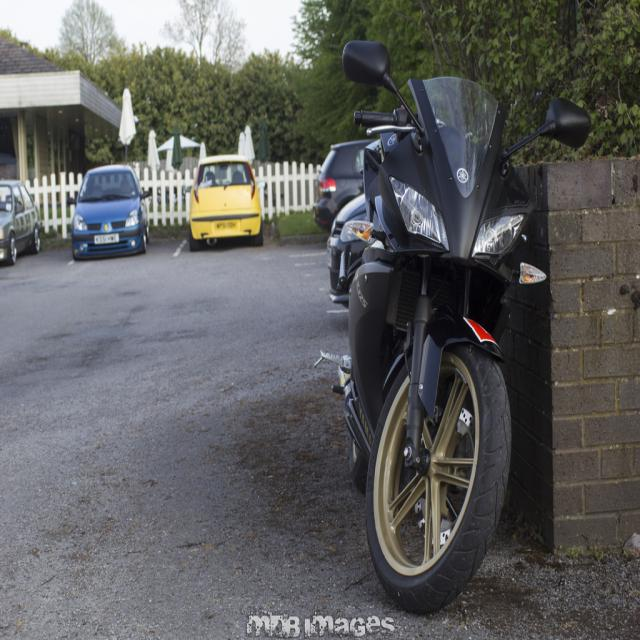car: (71, 160, 147, 260), (188, 155, 264, 241)
